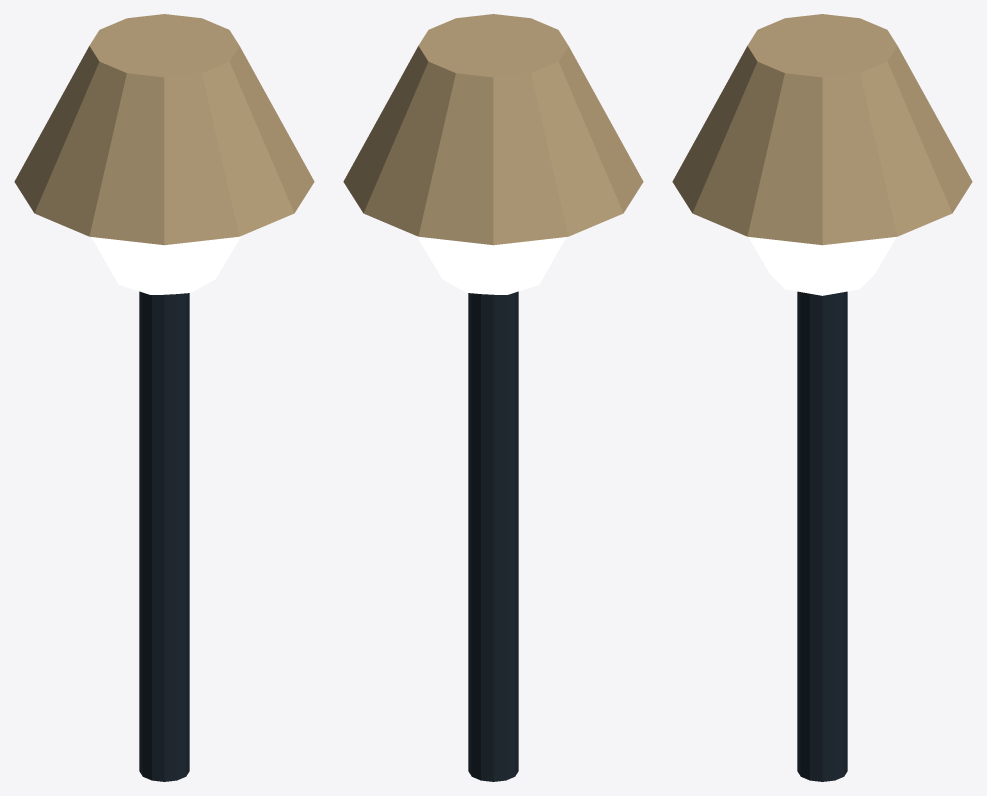
The model's file is objects-lamp.lod0.glb.
The picture shows the model from 3 angles, left to right: view 1: azimuth 30°, elevation 25°; view 2: azimuth 150°, elevation 25°; view 3: azimuth 270°, elevation 25°; orthographic projection.
Parts seen in each view (by area): view 1: objects-lamp__body; view 2: objects-lamp__body; view 3: objects-lamp__body.
Boxes of the visible parts, x1=… form: objects-lamp__body: x1=14, y1=14, x2=314, y2=781; objects-lamp__body: x1=343, y1=14, x2=643, y2=781; objects-lamp__body: x1=672, y1=14, x2=972, y2=781.
Size of the model in its own units: 0.6 by 1.6 by 0.6.
